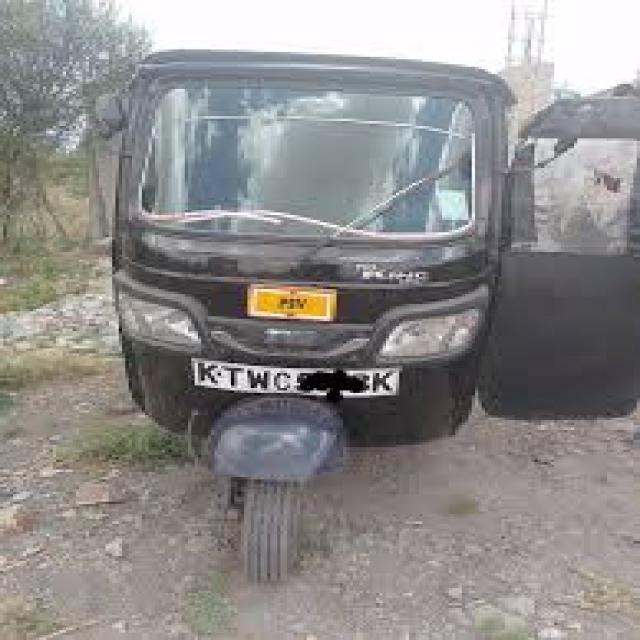tuktuk: (48, 16, 640, 606)
